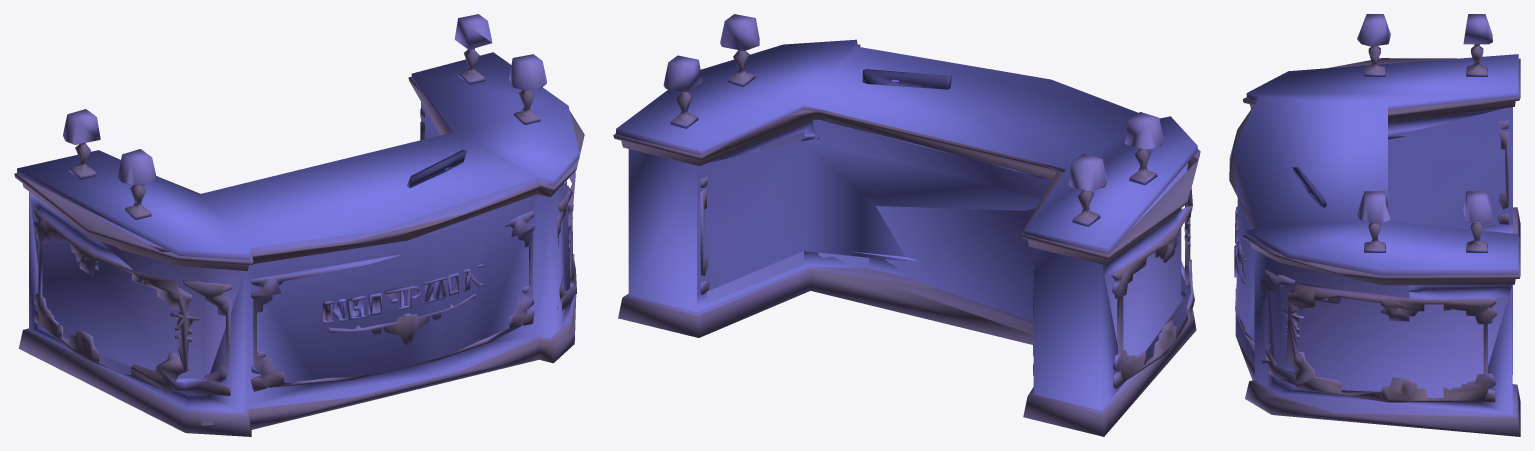
Rendered from model.progressive.glb.
The picture shows the model from 3 angles, left to right: view 1: azimuth 30°, elevation 25°; view 2: azimuth 150°, elevation 25°; view 3: azimuth 270°, elevation 25°; orthographic projection. The views are drawn at different scales.
Parts seen in each view (by area): view 1: material; view 2: material; view 3: material.
Part boxes in pixels (bbox=[...]): material: bbox=[14, 14, 584, 436]; material: bbox=[613, 14, 1200, 436]; material: bbox=[1229, 14, 1520, 436].
Size of the model in its own units: 1.88 by 0.8957 by 1.06.
1 material, 1 textured.
